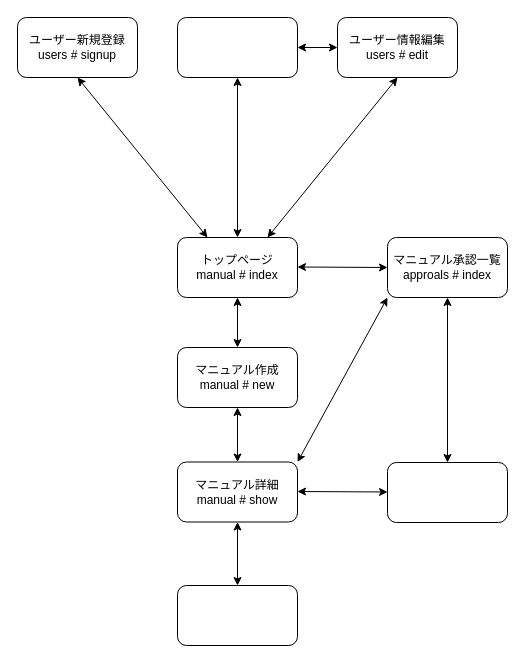
Some shapes in this 525 by 663 pixel diagram are drawn without their labels. The shapes that lost their labels are listed below. From the top down, each one's centre as x and y in pixels, then its label:
At [237,47]: "ユーザーログイン users # signin".
At [447,492]: "マニュアル承認 approals # create".
At [237,615]: "マニュアル修正 manual # edit".
